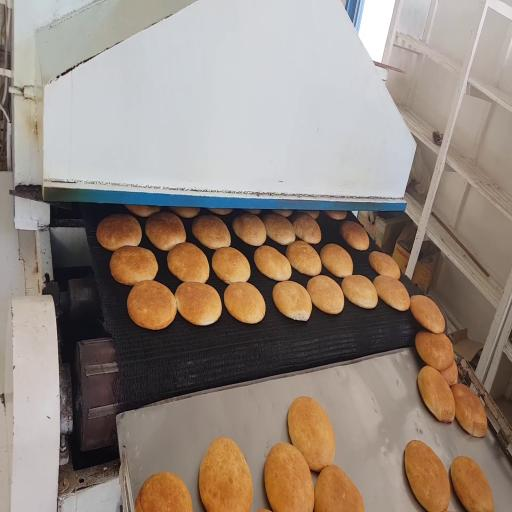bread: (199, 438, 252, 511), (288, 397, 335, 471), (264, 443, 314, 511), (405, 440, 450, 511), (127, 281, 176, 329), (451, 457, 494, 511), (135, 472, 192, 511), (315, 466, 364, 511), (418, 366, 455, 422), (175, 282, 221, 325), (109, 246, 158, 286), (452, 384, 487, 437), (97, 214, 142, 251), (224, 283, 265, 323), (167, 243, 209, 282), (415, 331, 454, 371), (146, 212, 186, 250), (273, 281, 311, 320), (307, 275, 344, 314), (212, 247, 250, 284), (410, 295, 445, 333), (254, 246, 291, 281), (192, 215, 230, 249), (374, 275, 409, 311), (286, 241, 321, 276), (342, 275, 377, 309), (320, 244, 353, 277), (233, 213, 266, 246), (263, 213, 295, 245), (292, 213, 321, 244), (369, 251, 400, 279), (341, 221, 369, 250), (441, 360, 458, 386), (126, 205, 160, 217), (170, 207, 199, 218), (325, 211, 346, 220), (208, 209, 232, 215), (273, 210, 293, 217), (302, 211, 319, 219), (246, 210, 261, 214)
